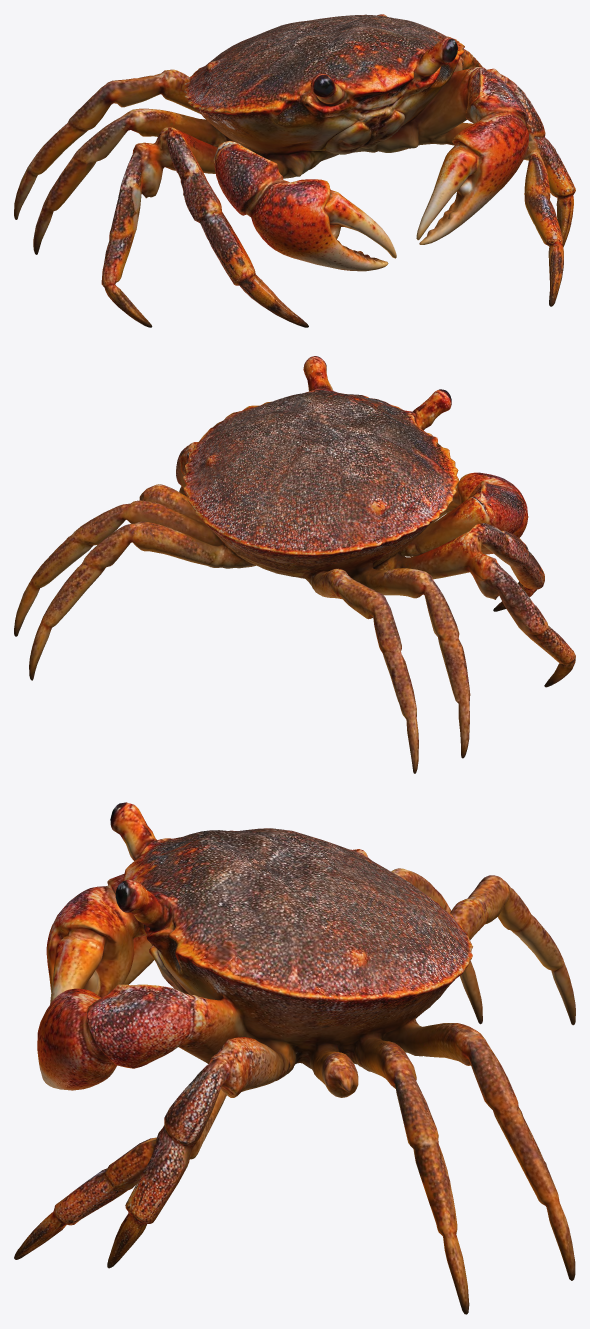
The model's file is crab.glb.
3 views of the same model, one above another, from view 1: azimuth 30°, elevation 25°; view 2: azimuth 150°, elevation 25°; view 3: azimuth 270°, elevation 25° (orthographic). The views are drawn at different scales.
Visible parts, largest first — view 1: Body, ClawR_2, ClawL_2, LegR1_0, LegR3_0, ClawR_1, LegR0_0, LegR2_0, LegR0_1, ClawR_0, LegR1_1, LegL1_0 (+16 smaller); view 2: Body, LegR1_0, LegL3_0, LegR3_0, ClawR_0, LegR2_0, LegL2_0, LegR1_1, LegR3_1, LegR2_1, ClawR_1, LegL3_1 (+7 smaller); view 3: Body, LegL1_0, ClawL_0, ClawL_1, ClawR_1, LegL3_0, ClawR_2, LegL1_1, LegL2_0, LegR3_0, LegL3_1, LegL2_1 (+11 smaller).
Boxes of the visible parts, bbox=[...] form: Body: bbox=[154, 14, 476, 178]; ClawR_2: bbox=[259, 180, 388, 271]; ClawL_2: bbox=[419, 126, 527, 244]; LegR1_0: bbox=[118, 127, 206, 223]; LegR3_0: bbox=[77, 69, 193, 128]; ClawR_1: bbox=[226, 166, 326, 248]; LegR0_0: bbox=[170, 132, 234, 232]; LegR2_0: bbox=[80, 108, 180, 172]; LegR0_1: bbox=[200, 219, 273, 295]; ClawR_0: bbox=[213, 140, 283, 215]; LegR1_1: bbox=[102, 191, 139, 283]; LegL1_0: bbox=[452, 68, 555, 190]; Body: bbox=[139, 357, 467, 597]; LegR1_0: bbox=[435, 524, 527, 622]; LegL3_0: bbox=[79, 521, 183, 588]; LegR3_0: bbox=[324, 568, 398, 645]; ClawR_0: bbox=[452, 481, 519, 534]; LegR2_0: bbox=[382, 568, 457, 635]; LegL2_0: bbox=[73, 500, 159, 552]; LegR1_1: bbox=[511, 591, 572, 662]; LegR3_1: bbox=[377, 617, 416, 713]; LegR2_1: bbox=[435, 623, 470, 700]; ClawR_1: bbox=[456, 472, 528, 553]; LegL3_1: bbox=[41, 564, 95, 637]; Body: bbox=[123, 804, 474, 1104]; LegL1_0: bbox=[125, 1037, 268, 1206]; ClawL_0: bbox=[95, 984, 219, 1073]; ClawL_1: bbox=[53, 988, 141, 1090]; ClawR_1: bbox=[74, 873, 134, 991]; LegL3_0: bbox=[437, 1023, 523, 1118]; ClawR_2: bbox=[46, 893, 113, 997]; LegL1_1: bbox=[115, 1104, 202, 1244]; LegL2_0: bbox=[378, 1045, 438, 1154]; LegR3_0: bbox=[454, 875, 527, 939]; LegL3_1: bbox=[495, 1108, 559, 1204]; LegL2_1: bbox=[414, 1135, 457, 1239].
Bounding box in the file's own units: 0.42 × 0.209 × 0.3142.
Materials: 1 (1 with a texture image).
